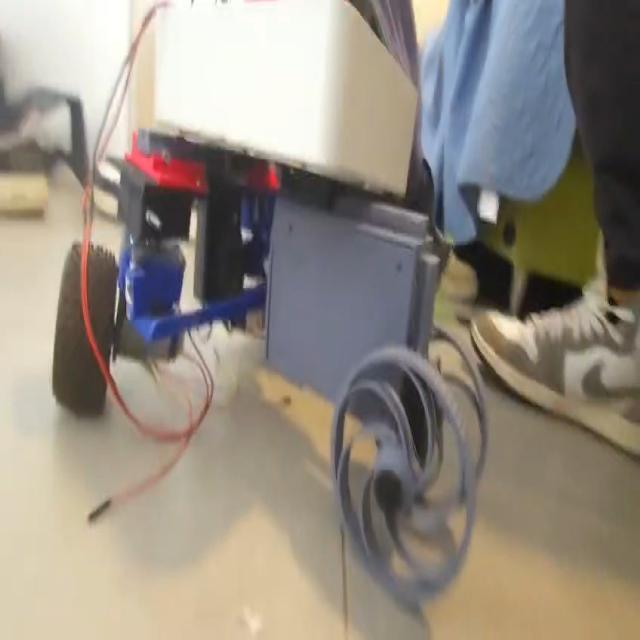Robot: (50, 0, 490, 608)
